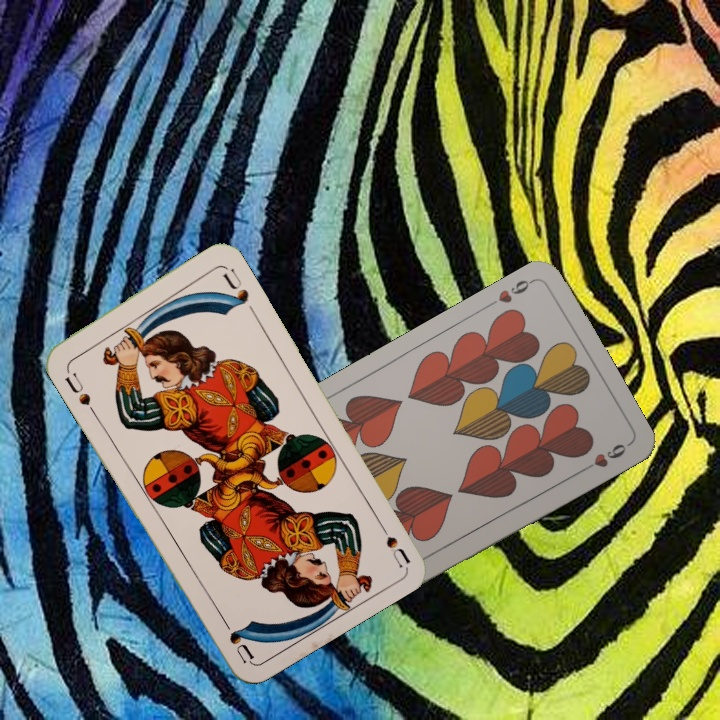H9: (483, 275, 537, 310)
SU: (372, 513, 412, 569), (60, 368, 94, 408)
